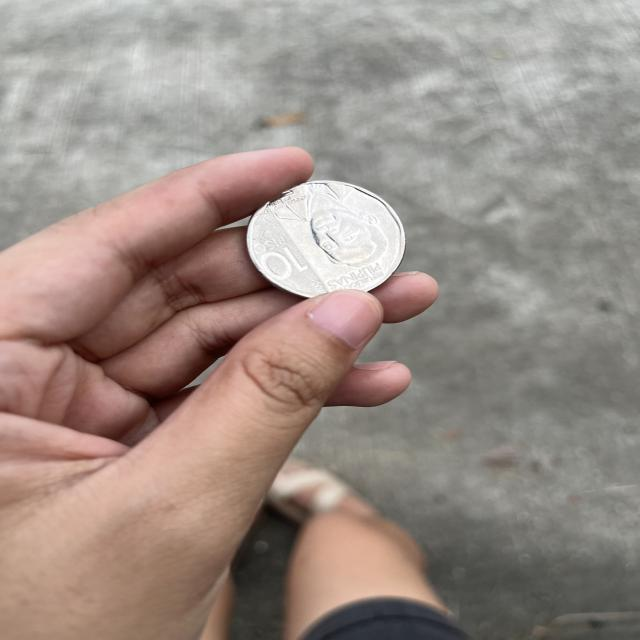10_New_Front: (244, 233, 310, 284)
